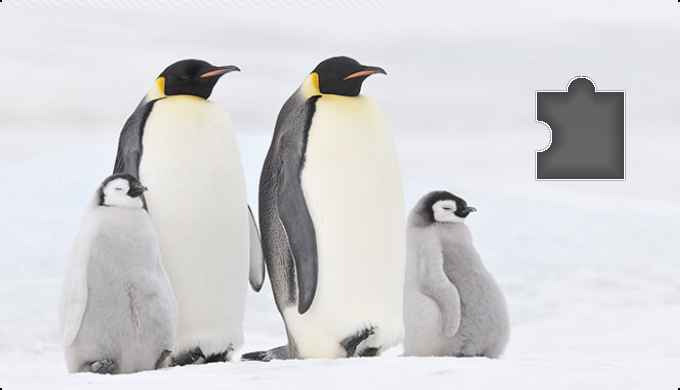gap: (537, 77, 624, 177)
